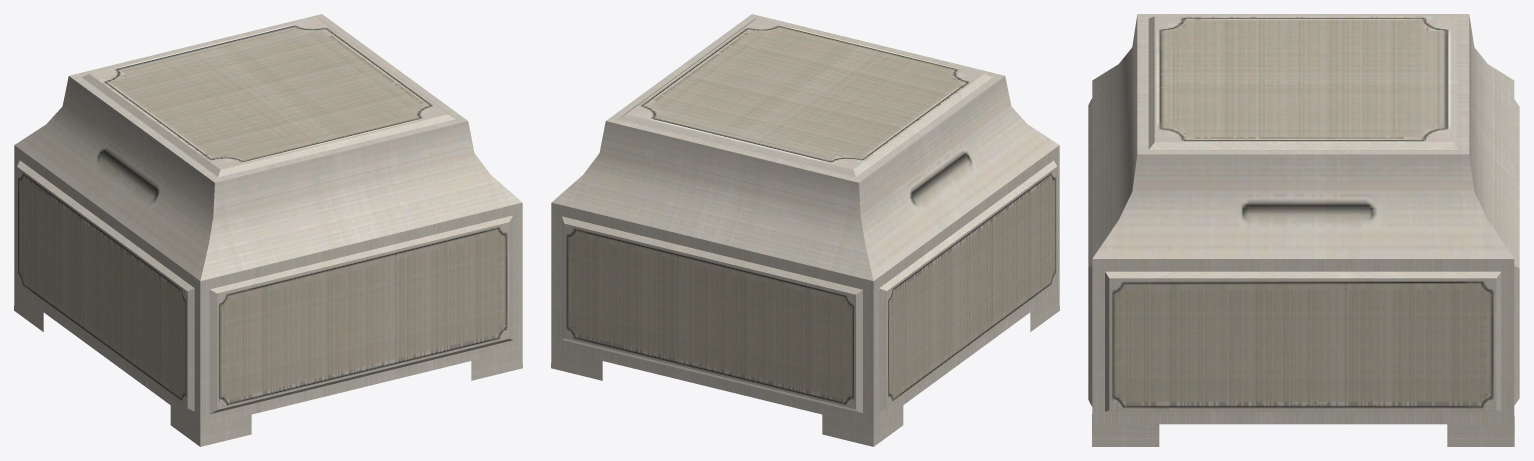
Rendered from frn_all_eleg_chest_s01_l0.fbx.
3 renders of one model, left to right at view 1: azimuth 30°, elevation 25°; view 2: azimuth 150°, elevation 25°; view 3: azimuth 270°, elevation 25°, orthographic. The views are drawn at different scales.
Parts seen in each view (by area): view 1: mesh_node; view 2: mesh_node; view 3: mesh_node.
Boxes of the visible parts, x1,y1,x2,y2 form: mesh_node: (14,14,522,446); mesh_node: (551,14,1059,446); mesh_node: (1088,14,1519,446).
Bounding box in the file's own units: 1.08 × 0.7602 × 1.07.
